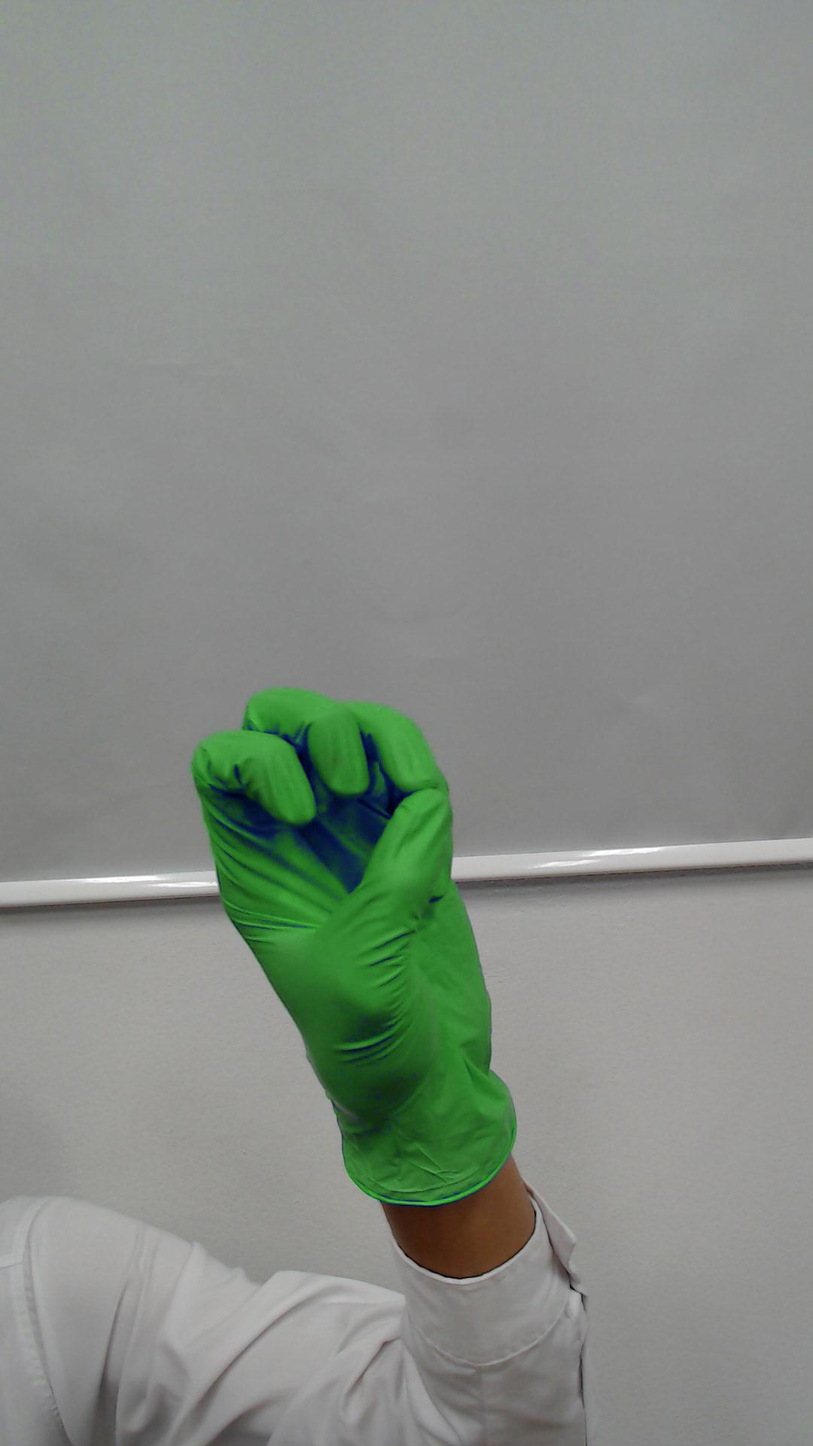gloves: (182, 674, 505, 1069)
